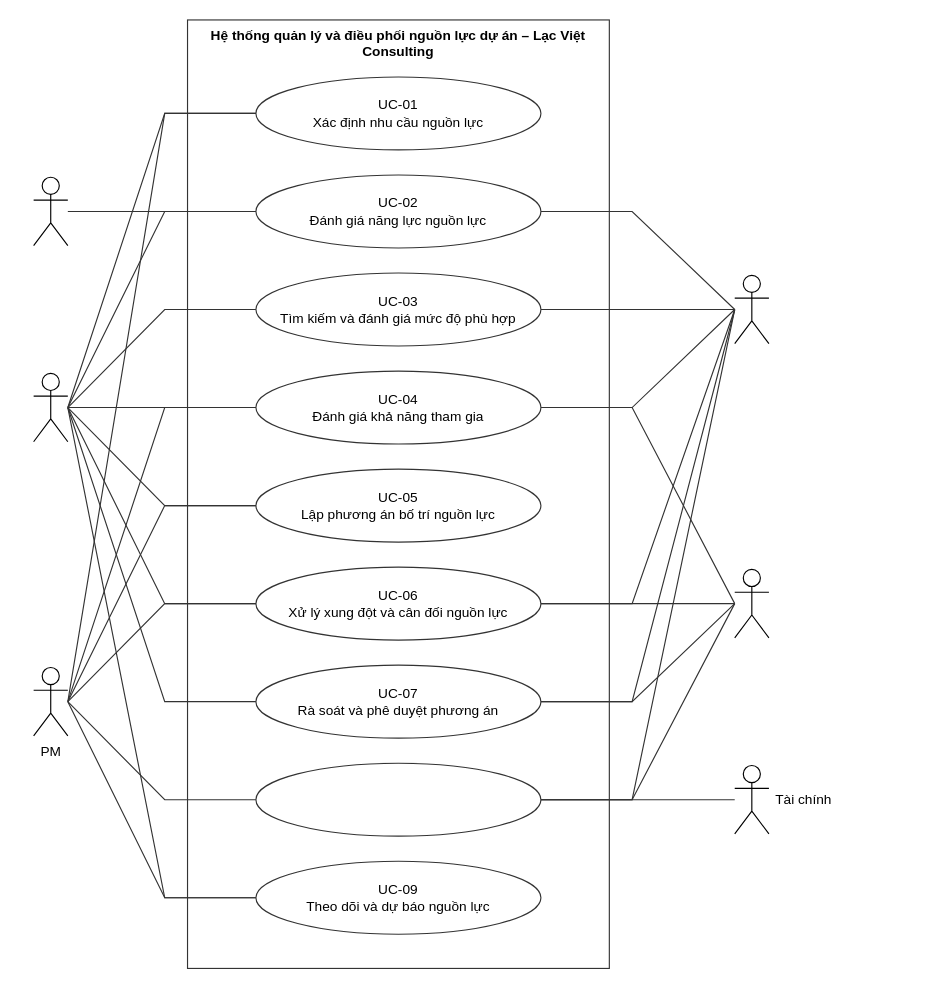
Image size: 942x988. Some labels were removed from this diagram. Each missing label, with the box of its shape:
CEO/Managing Director: (734, 568, 769, 638)
Nguồn lực: (32, 176, 68, 246)
PMO/Quản lý danh mục: (734, 274, 769, 344)
RM: (32, 372, 68, 442)
UC-08 Đánh giá tác động chi phí và ngân sách: (255, 762, 541, 836)
